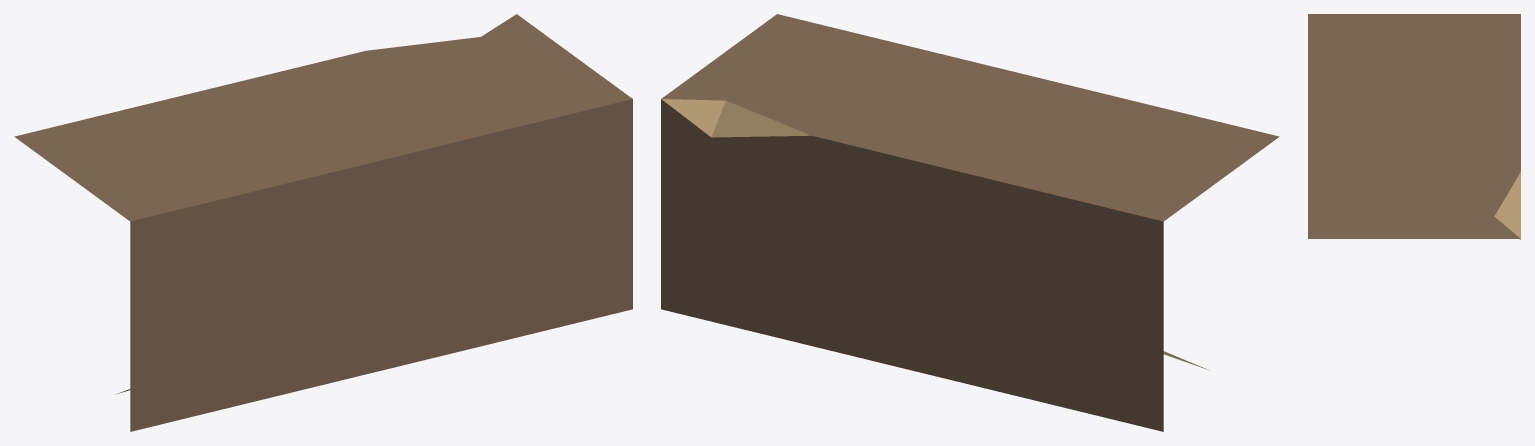
File: Cave_Prop_Support_Ceiling_Beam_4.glb
The picture shows the model from 3 angles, left to right: view 1: azimuth 30°, elevation 25°; view 2: azimuth 150°, elevation 25°; view 3: azimuth 270°, elevation 25°; orthographic projection. The views are drawn at different scales.
Visible parts, largest first — view 1: Cave_Prop_Support_Ceiling_Beam_4; view 2: Cave_Prop_Support_Ceiling_Beam_4; view 3: Cave_Prop_Support_Ceiling_Beam_4.
Part boxes in pixels (bbox=[...]): Cave_Prop_Support_Ceiling_Beam_4: bbox=[14, 14, 632, 431]; Cave_Prop_Support_Ceiling_Beam_4: bbox=[661, 14, 1279, 431]; Cave_Prop_Support_Ceiling_Beam_4: bbox=[1308, 14, 1520, 240].
Bounding box in the file's own units: 1 × 0.4 × 0.4.
